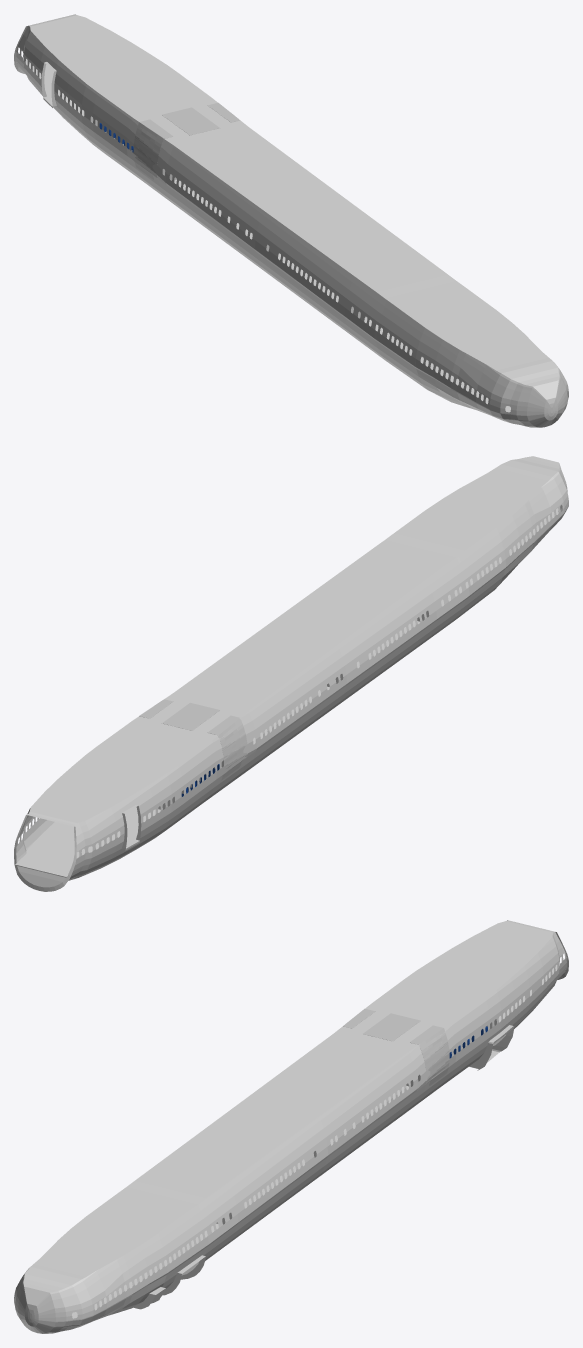
3 views of the same model, one above another, from view 1: azimuth 30°, elevation 25°; view 2: azimuth 150°, elevation 25°; view 3: azimuth 330°, elevation 25° (orthographic).
Visible parts, largest first — view 1: static-material-0, static-material-4; view 2: static-material-0, static-material-4; view 3: static-material-0, static-material-4.
Part boxes in pixels (bbox=[...]): static-material-0: bbox=[14, 14, 568, 427]; static-material-4: bbox=[133, 102, 239, 180]; static-material-0: bbox=[14, 456, 568, 891]; static-material-4: bbox=[139, 699, 247, 780]; static-material-0: bbox=[14, 920, 568, 1333]; static-material-4: bbox=[343, 1008, 449, 1086].
Bounding box in the file's own units: 6.24 × 4.86 × 58.59.
5 materials, 3 textured.
